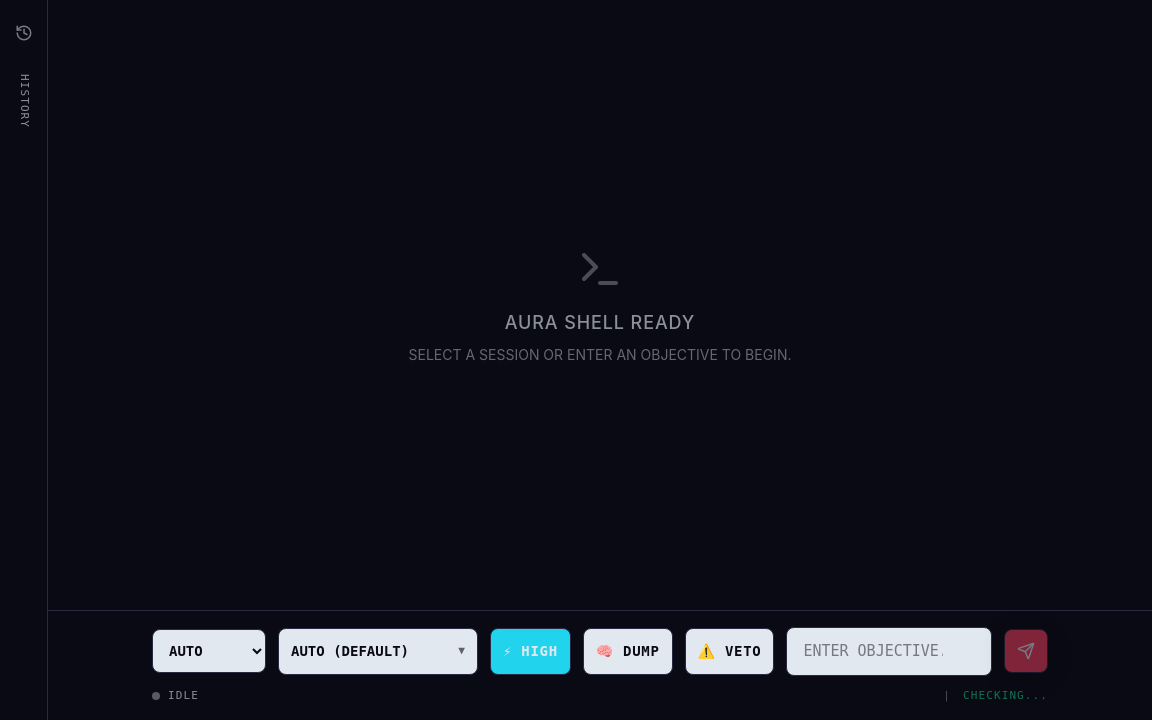
Test: CoreTerminal Resiliency (SSE Streaming) › user message is never echoed as the final answer
The image size is (1152, 720).
Type "Echo test" into the field with placeholder "ENTER OBJECTIVE...". click: [889, 651]
box: [786,627,992,676]
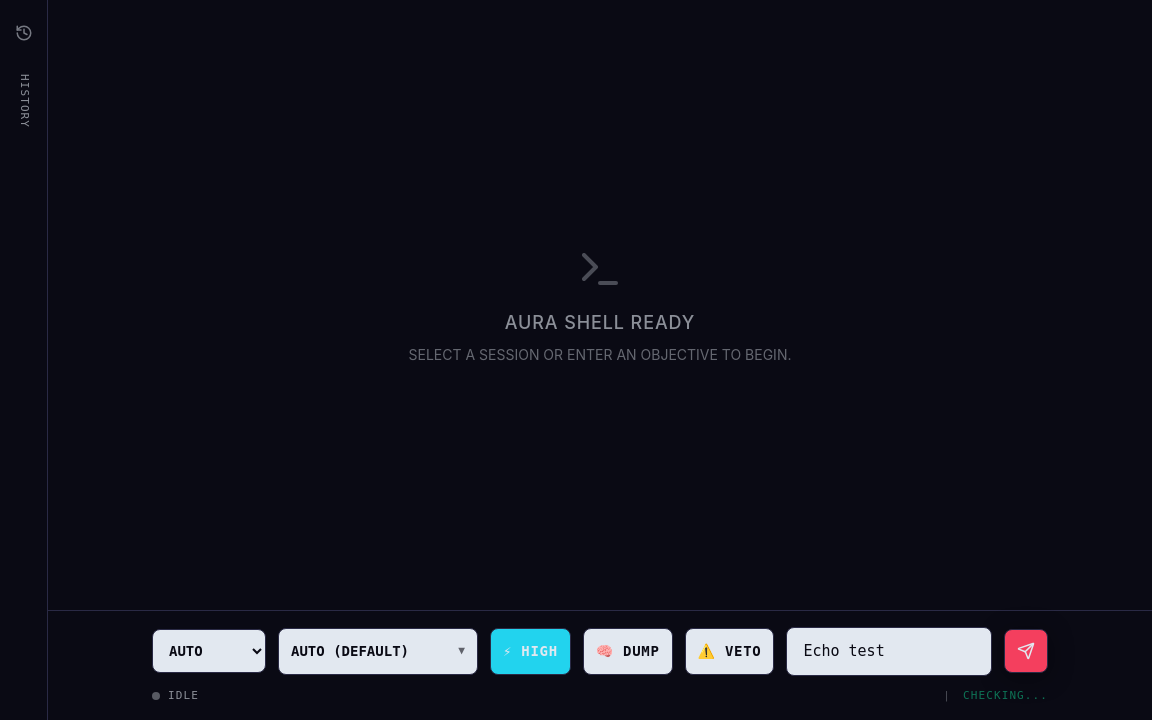
Press Enter in the field with placeholder "ENTER OBJECTIVE...", box [786,627,992,676]
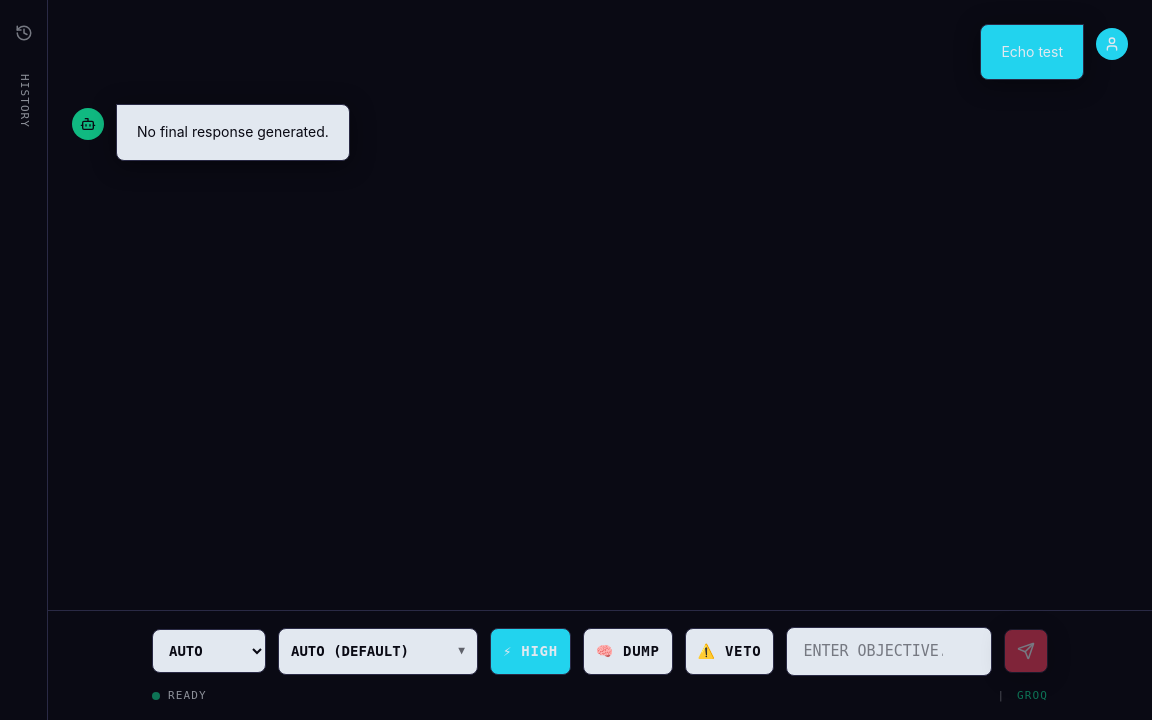
Check: the text "No final response generated." is shown, box [137,121,329,144]
Check: the text "Echo test" is shown once, box [1001,41,1063,63]
